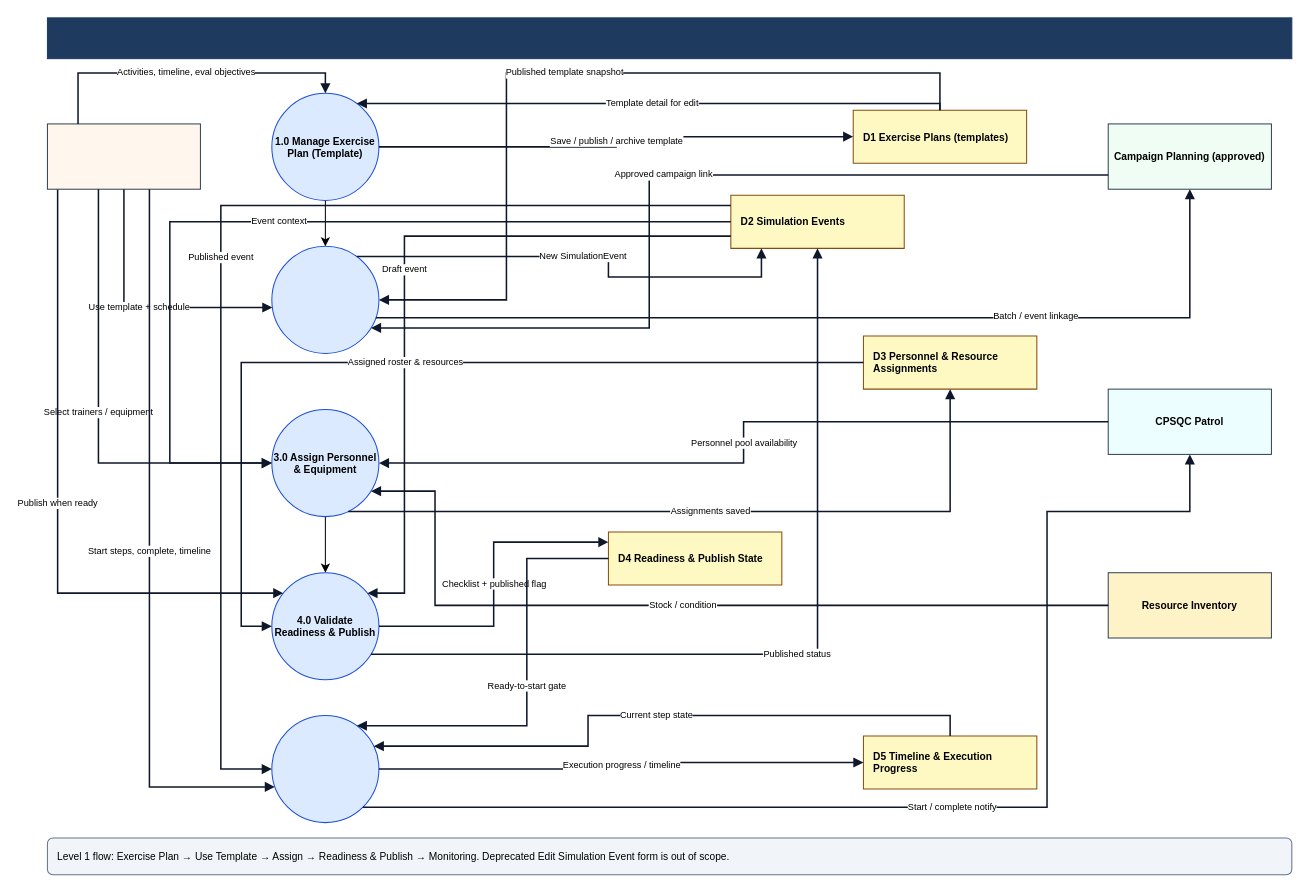
Some shapes in this 1310 by 893 pixel diagram are drawn without their labels. The box of each missing label's shape, as (x1, y1, x2, y2) in pixels:
2.0 Create Event from Template: (271, 245, 379, 353)
5.0 Monitor Lifecycle & Execution: (271, 715, 379, 823)
DFD Level 1 — Simulation Event Planning (Decomposition): (46, 17, 1292, 59)
Lead Trainer / Admin: (46, 123, 200, 189)
